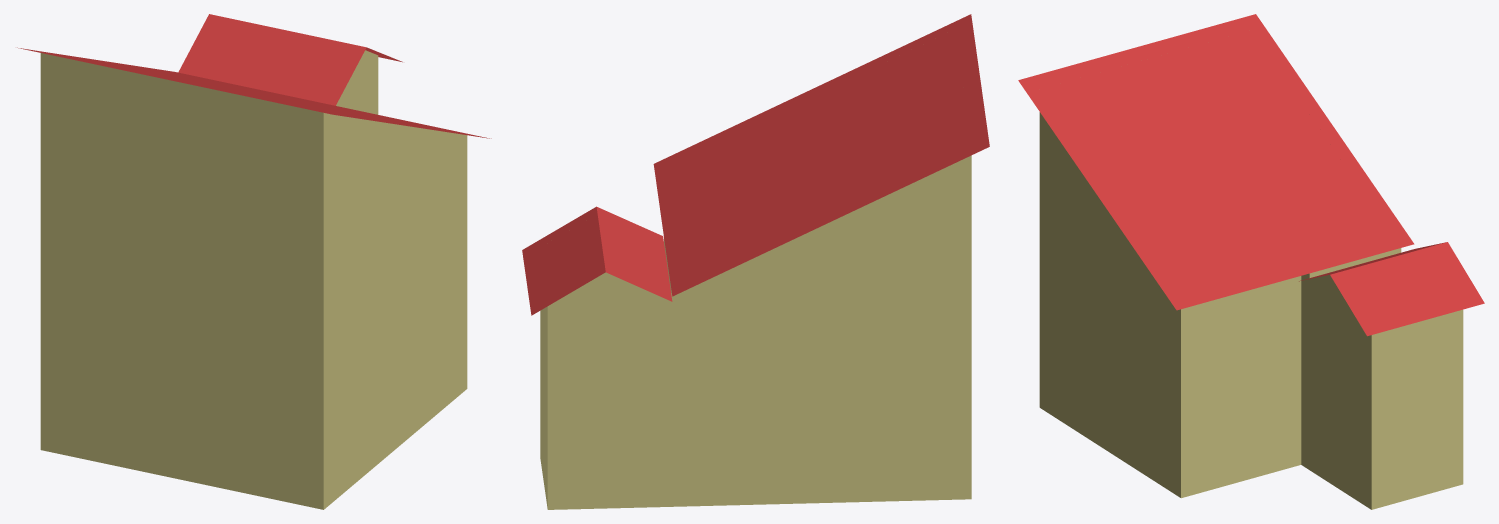
3 views of the same model, side by side, from view 1: azimuth 30°, elevation 25°; view 2: azimuth 150°, elevation 25°; view 3: azimuth 270°, elevation 25° (orthographic). The views are drawn at different scales.
Size of the model in its own units: 13.55 by 14.89 by 11.45.
